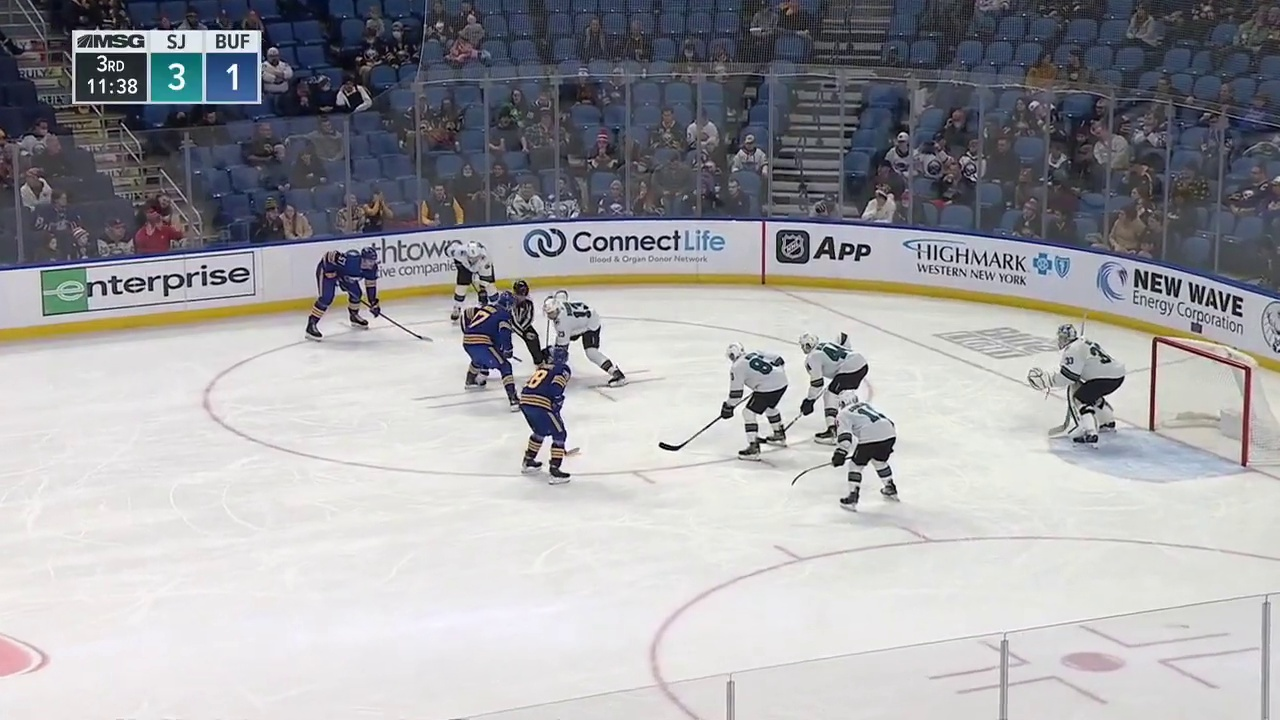goalie: (1027, 324, 1126, 450)
hockeyplayer: (542, 289, 627, 388), (832, 389, 899, 512), (798, 331, 869, 446), (721, 342, 788, 461), (461, 291, 525, 412), (304, 246, 381, 342), (519, 348, 572, 485), (444, 240, 499, 323)
referee: (479, 280, 542, 379)
